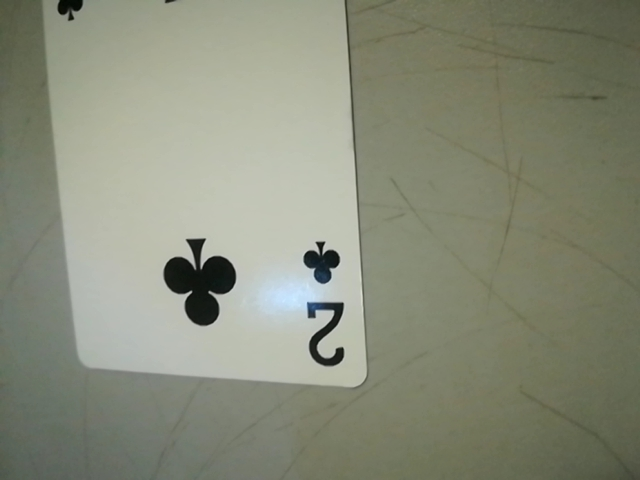mh 2: (289, 228, 358, 379)
